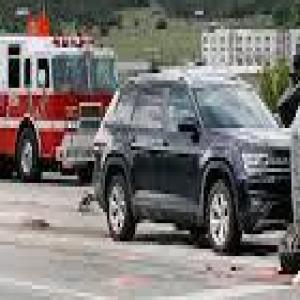fatal: (88, 52, 300, 274)
